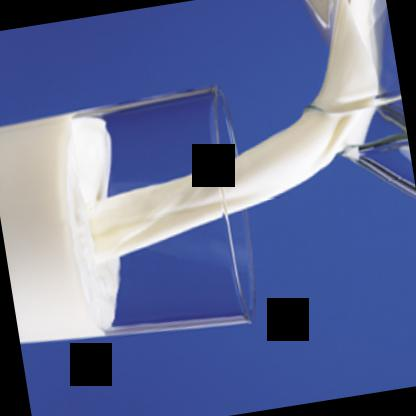milk: (0, 88, 262, 347)
